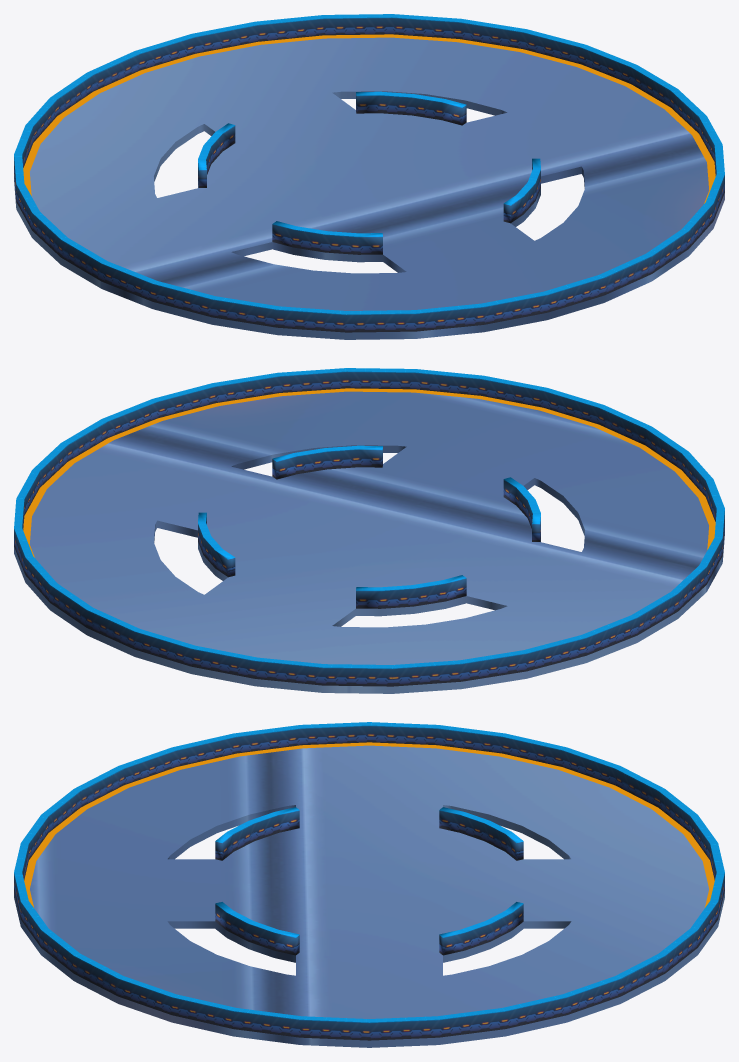
Rendered from Battle_Stage 8.fbx.
The picture shows the model from 3 angles, top to bottom: view 1: azimuth 30°, elevation 25°; view 2: azimuth 150°, elevation 25°; view 3: azimuth 270°, elevation 25°; orthographic projection.
Visible parts, largest first — view 1: battle_stage_8_platform, battle_stage_8_platform.001, battle_stage_8_platform.002; view 2: battle_stage_8_platform, battle_stage_8_platform.001, battle_stage_8_platform.002; view 3: battle_stage_8_platform, battle_stage_8_platform.001, battle_stage_8_platform.002.
Part boxes in pixels (x1,y1,x2,y2): battle_stage_8_platform: (14,37,724,339); battle_stage_8_platform.001: (14,14,724,332); battle_stage_8_platform.002: (23,34,715,203); battle_stage_8_platform: (14,391,724,693); battle_stage_8_platform.001: (14,368,724,686); battle_stage_8_platform.002: (23,388,715,557); battle_stage_8_platform: (14,745,724,1047); battle_stage_8_platform.001: (14,722,724,1040); battle_stage_8_platform.002: (24,742,714,907).
Size of the model in its own units: 8700 by 343 by 8700.
